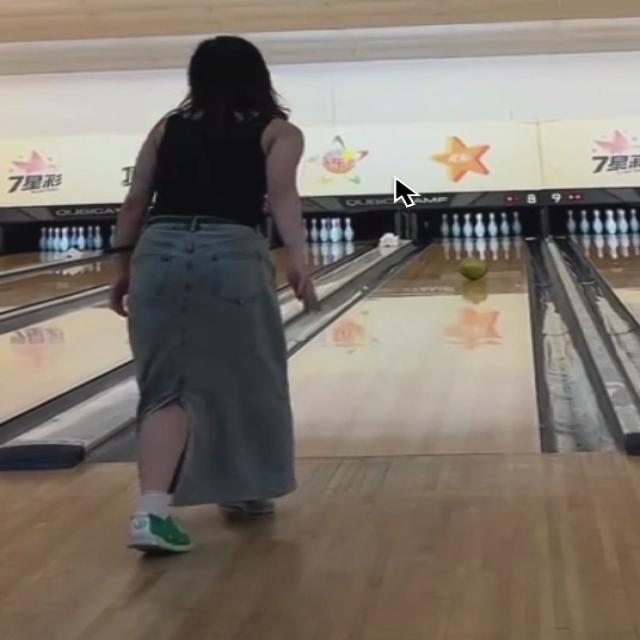alley: (290, 239, 537, 460)
balls: (460, 258, 485, 280)
bottle: (441, 210, 518, 237)
